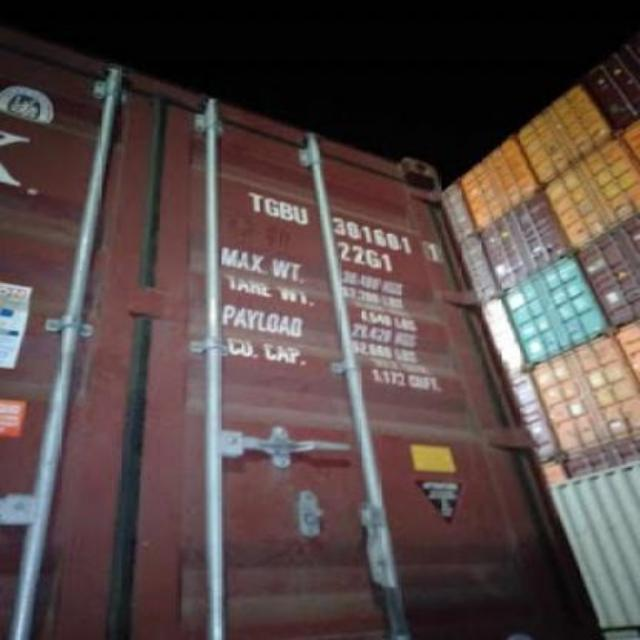0: (346, 214, 358, 242), (386, 226, 399, 250)
1: (422, 236, 444, 264), (400, 229, 412, 255), (360, 220, 372, 243)
3: (328, 211, 344, 237)
6: (370, 224, 386, 246)
B: (280, 193, 294, 223)
G: (264, 187, 280, 219)
T: (247, 187, 263, 213)
U: (294, 200, 308, 230)
